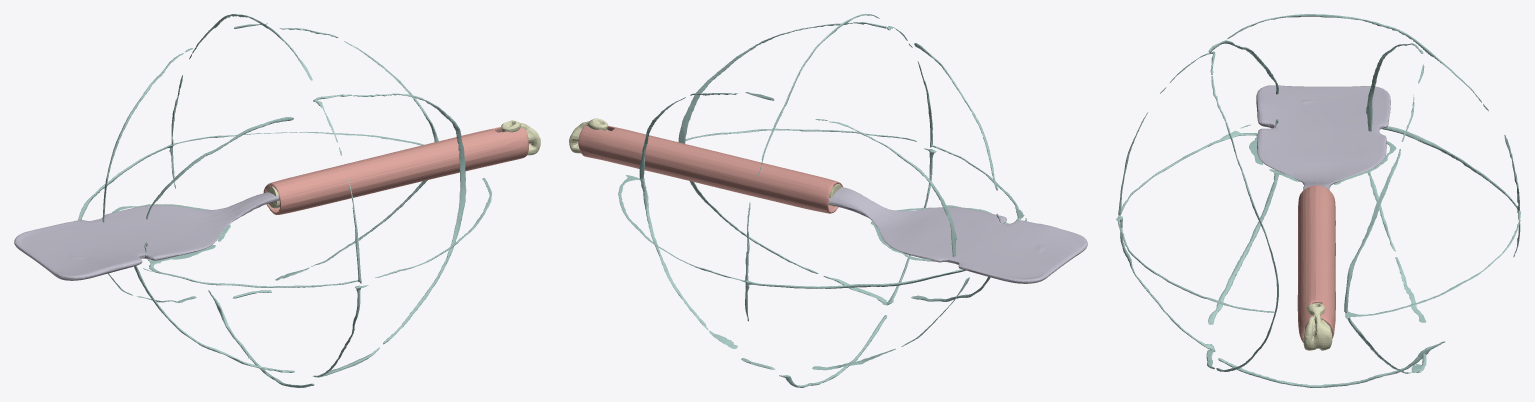
3 views of the same model, side by side, from view 1: azimuth 30°, elevation 25°; view 2: azimuth 150°, elevation 25°; view 3: azimuth 270°, elevation 25° (orthographic). The views are drawn at different scales.
Visible parts, largest first — view 1: world; view 2: world; view 3: world.
Part boxes in pixels (<box>): world: <box>14,14,540,387</box>; world: <box>569,14,1087,387</box>; world: <box>1116,14,1520,387</box>.
Size of the model in its own units: 0.9987 by 0.6715 by 0.6591.
